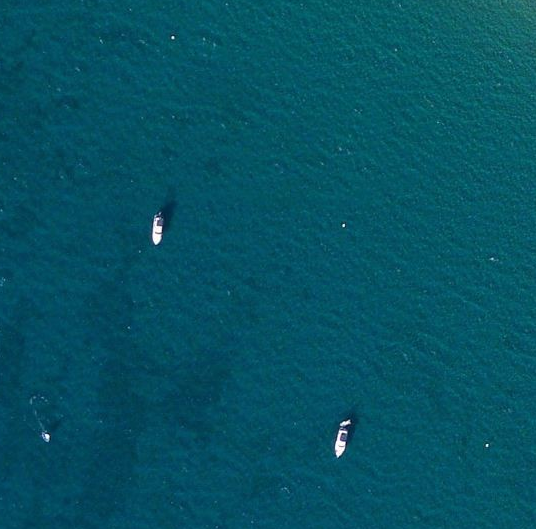ship: (331, 416, 355, 462), (148, 210, 169, 252)
